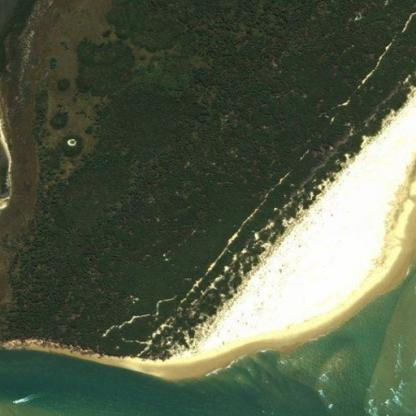ship: (12, 401, 16, 403)
